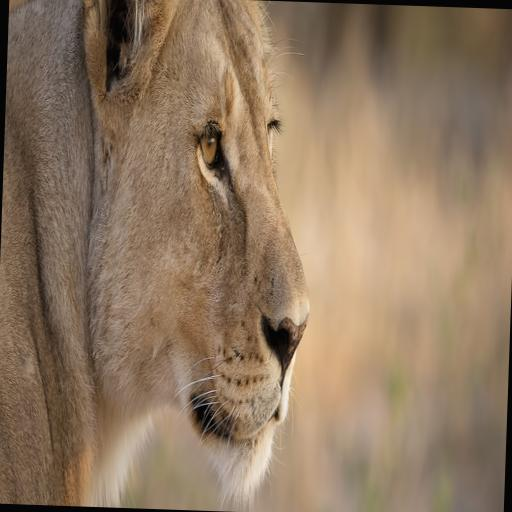lions: (0, 0, 502, 511)
